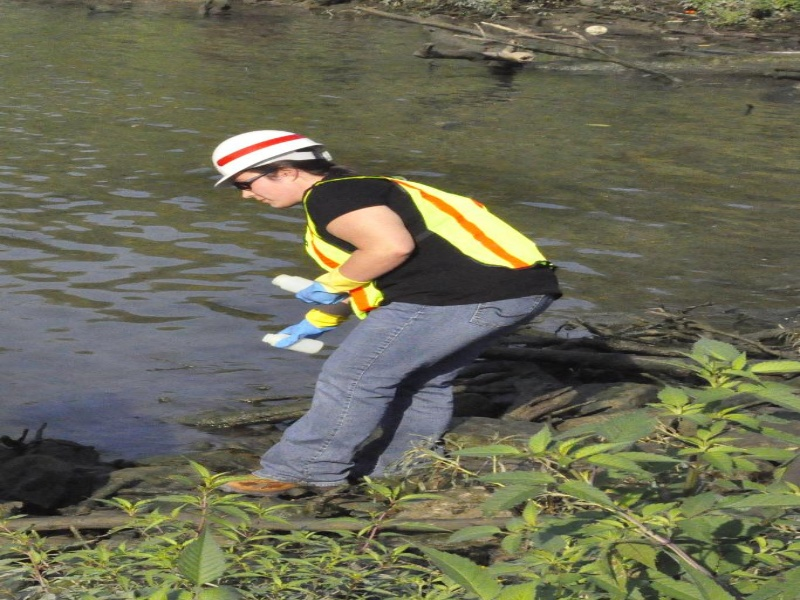Baret: (209, 129, 322, 182)
